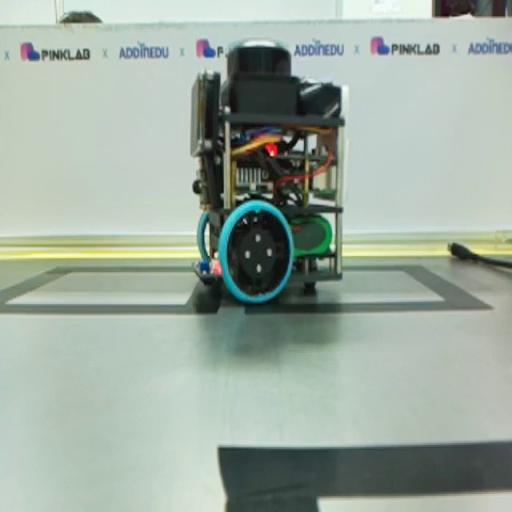pinky_63: (190, 38, 346, 303)
